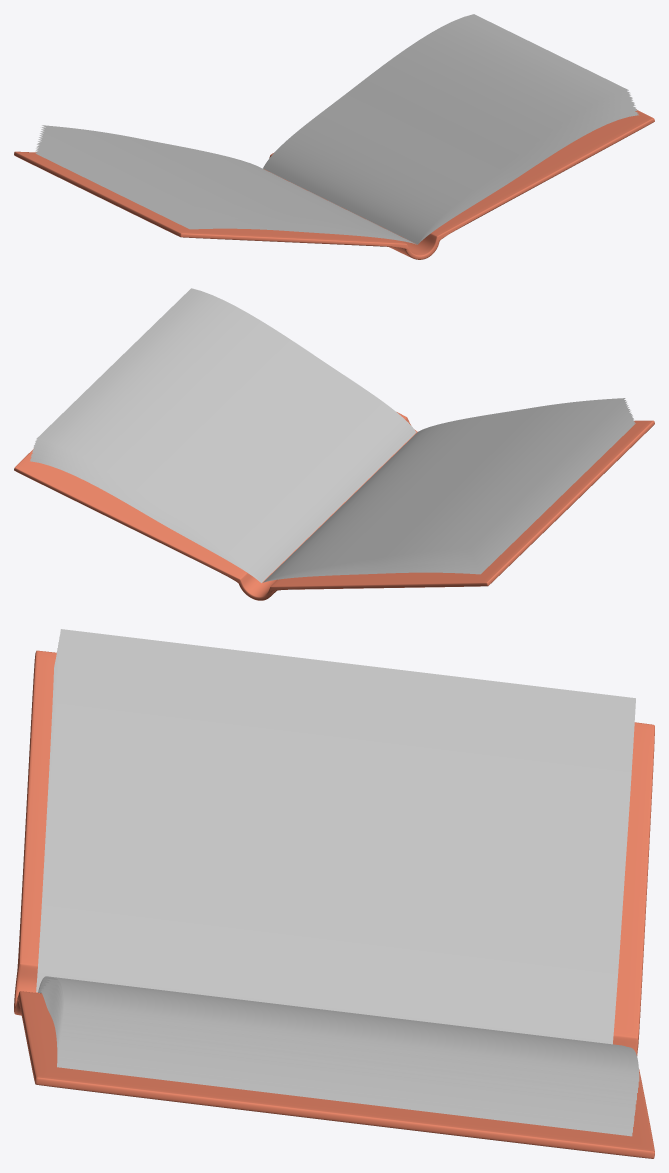
The model's file is book.fbx.
3 renders of one model, top to bottom at view 1: azimuth 30°, elevation 25°; view 2: azimuth 150°, elevation 25°; view 3: azimuth 270°, elevation 25°, orthographic. The views are drawn at different scales.
Parts seen in each view (by area): view 1: pages, book; view 2: pages, book; view 3: pages, book.
Part boxes in pixels (left/top/right/bottom): pages: left=35, top=14, right=638, bottom=244; book: left=14, top=109, right=654, bottom=259; pages: left=30, top=288, right=635, bottom=582; book: left=14, top=412, right=654, bottom=600; pages: left=36, top=629, right=639, bottom=1136; book: left=14, top=650, right=654, bottom=1158.
Size of the model in its own units: 519 by 153 by 327.
